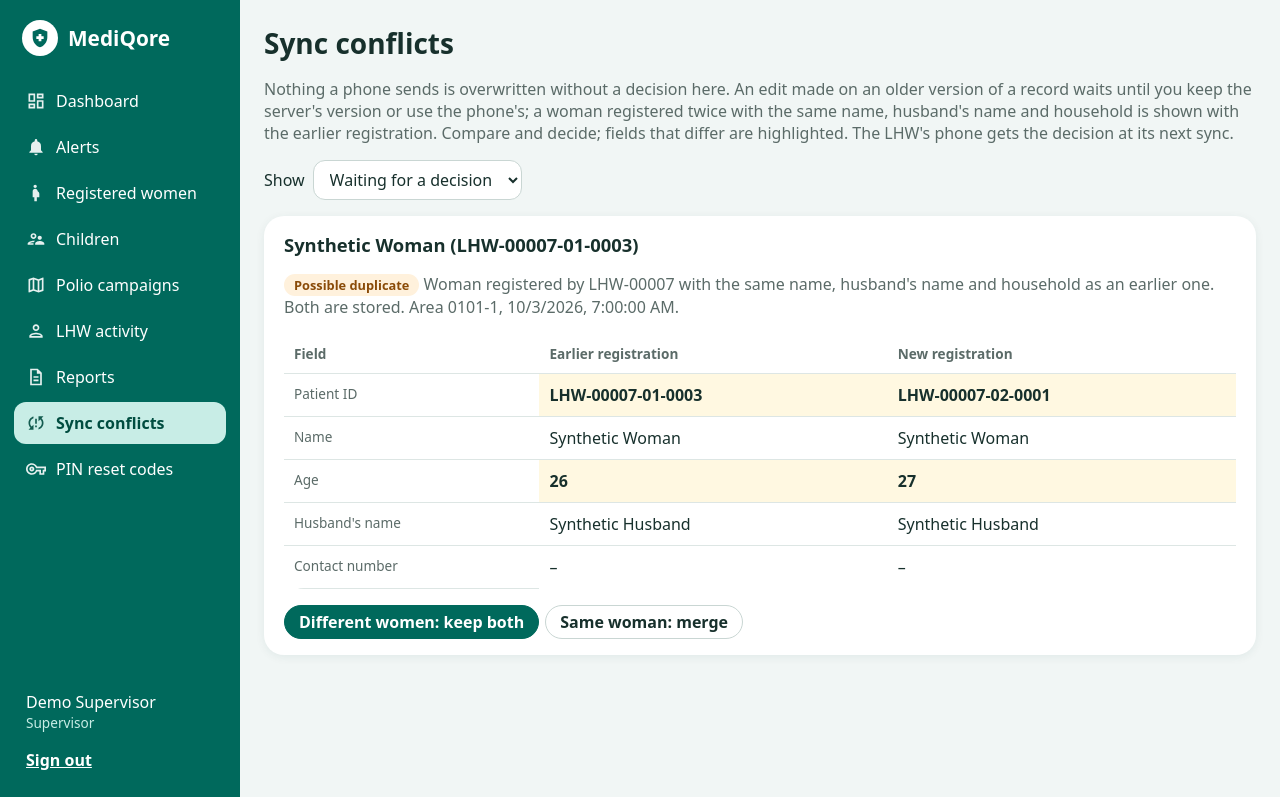
Test: sync conflict queue (M3 FE-2, M10) › a possible duplicate woman › "Different women" keeps both without asking
Step 1. Click the button "Different women: keep both" → coordinates (412, 622), box [284,604,539,638]
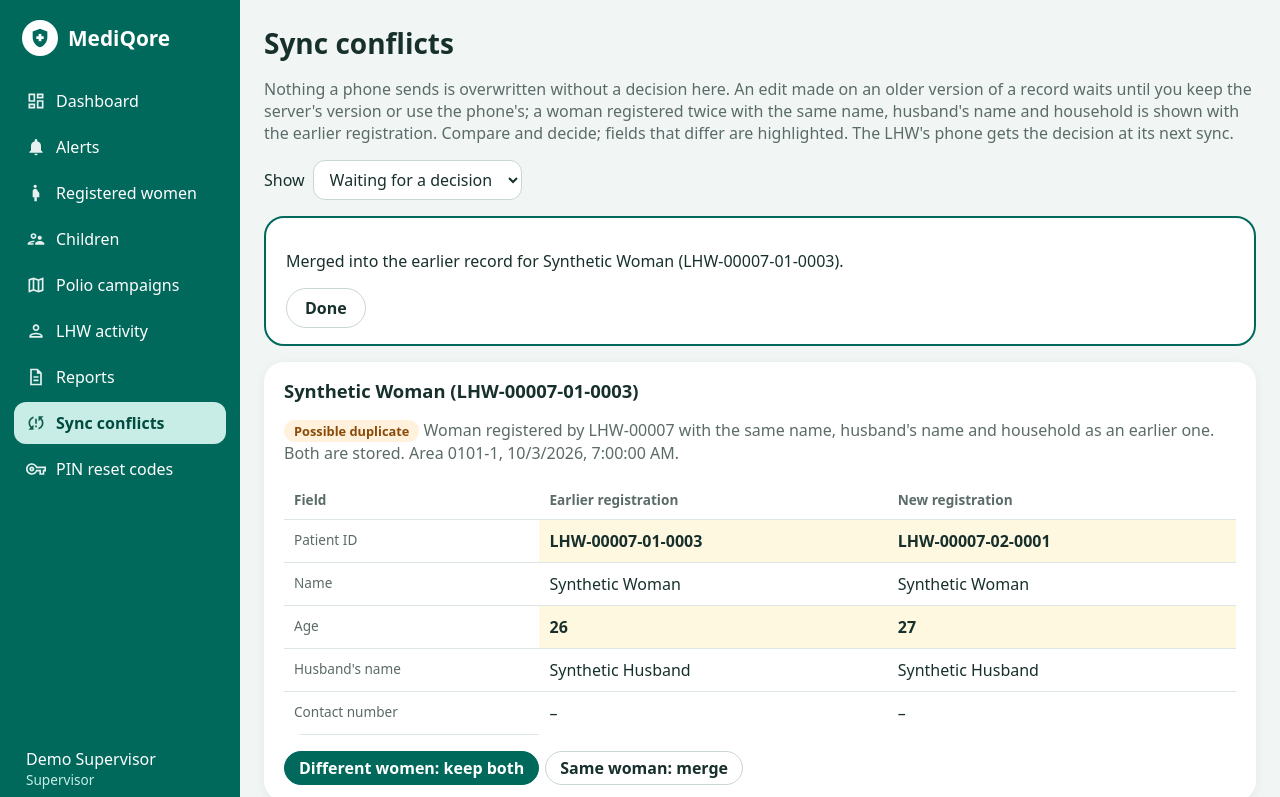
expect the element named "Decision saved" is shown: met, box [264,216,1256,346]
